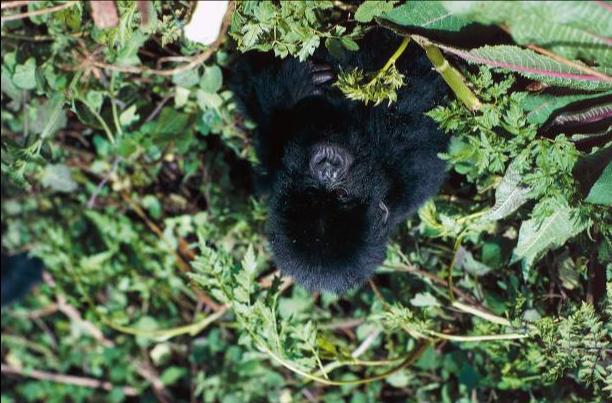goriile_montagne: (222, 45, 457, 305)
